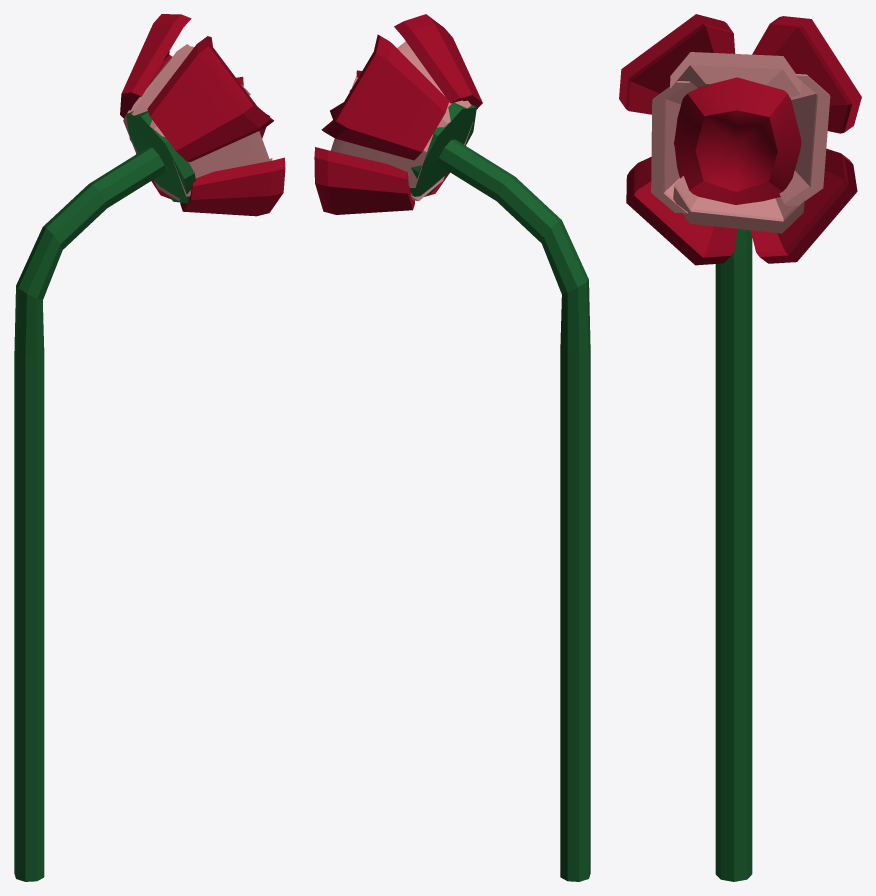
The model's file is TT_Flower_red.fbx.
The picture shows the model from 3 angles, left to right: view 1: azimuth 30°, elevation 25°; view 2: azimuth 150°, elevation 25°; view 3: azimuth 270°, elevation 25°; orthographic projection. The views are drawn at different scales.
Visible parts, largest first — view 1: Rose_red; view 2: Rose_red; view 3: Rose_red.
Part boxes in pixels (x1=…): Rose_red: x1=14, y1=14, x2=285, y2=881; Rose_red: x1=314, y1=14, x2=590, y2=881; Rose_red: x1=619, y1=14, x2=861, y2=881.
Size of the model in its own units: 25.62 by 79.21 by 18.19.
